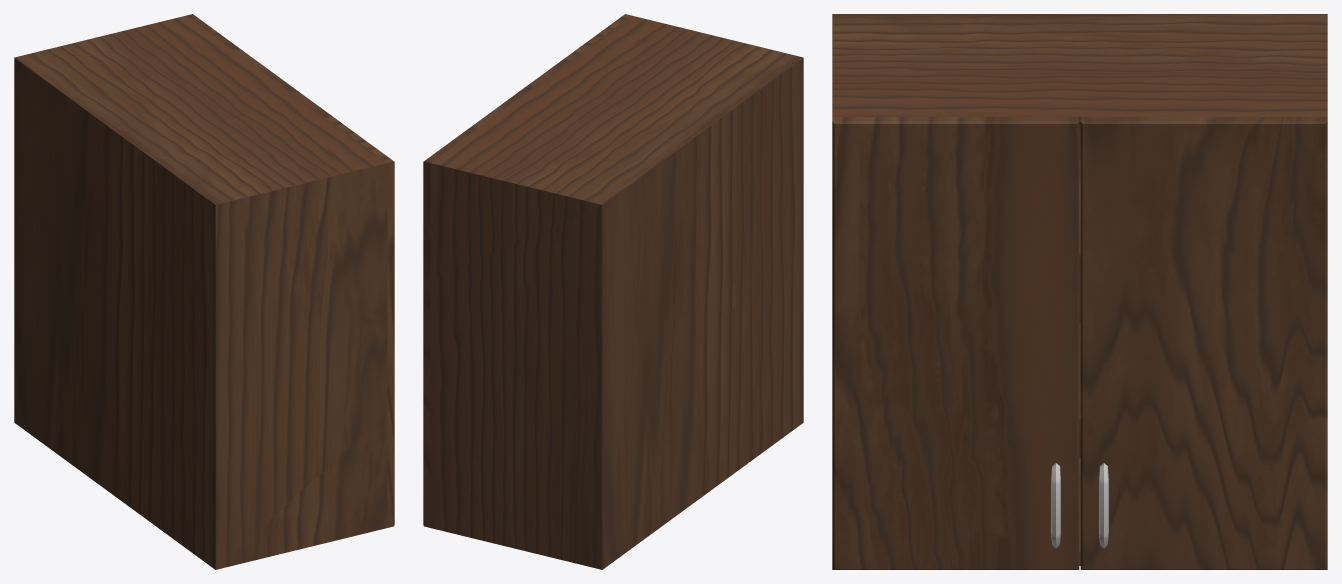
Rendered from cupboard.glb.
The picture shows the model from 3 angles, left to right: view 1: azimuth 30°, elevation 25°; view 2: azimuth 150°, elevation 25°; view 3: azimuth 270°, elevation 25°; orthographic projection. The views are drawn at different scales.
Parts seen in each view (by area): view 1: KitchenCupboard; view 2: KitchenCupboard; view 3: KitchenCupboard.
Part boxes in pixels (bbox=[...]): KitchenCupboard: bbox=[14, 14, 394, 569]; KitchenCupboard: bbox=[423, 14, 803, 569]; KitchenCupboard: bbox=[832, 14, 1327, 569].
Size of the model in its own units: 0.4353 by 0.8 by 0.8.
Materials: 1 (1 with a texture image).
